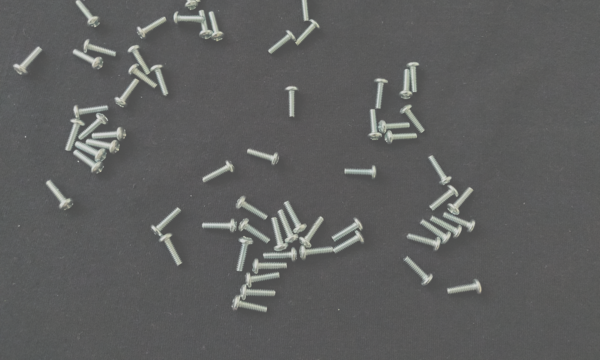shortscrew: (150, 207, 182, 238), (403, 256, 434, 287), (14, 47, 43, 78), (46, 181, 74, 212), (239, 219, 272, 245), (235, 196, 269, 221), (159, 234, 184, 268), (428, 155, 454, 187), (447, 187, 475, 216), (400, 105, 427, 135), (420, 219, 451, 245), (73, 151, 105, 176), (203, 160, 236, 184), (430, 216, 463, 240), (76, 0, 102, 30), (79, 113, 109, 139), (429, 185, 459, 211), (136, 16, 167, 41), (333, 217, 364, 242), (128, 64, 157, 90), (285, 201, 307, 235), (268, 30, 297, 55), (300, 217, 324, 247), (278, 210, 299, 244), (334, 231, 365, 254), (296, 19, 322, 46), (82, 40, 117, 60), (127, 45, 151, 74), (64, 120, 85, 153), (442, 213, 476, 233), (232, 296, 269, 314), (73, 50, 104, 71), (115, 80, 138, 108), (75, 142, 107, 162), (236, 237, 254, 272), (407, 234, 442, 252), (72, 105, 109, 122), (150, 64, 169, 97), (247, 148, 281, 166), (240, 285, 277, 301), (272, 218, 289, 252), (245, 273, 281, 289), (447, 280, 483, 296), (300, 244, 333, 261), (86, 140, 121, 156), (202, 220, 238, 235), (253, 260, 288, 275), (383, 130, 418, 145), (264, 248, 298, 263), (344, 166, 378, 181), (368, 109, 383, 143), (92, 127, 127, 141), (285, 85, 299, 117), (399, 69, 413, 101), (375, 79, 389, 110), (378, 121, 411, 134), (174, 12, 204, 26), (406, 62, 419, 94), (297, 0, 311, 23), (180, 0, 198, 13), (183, 0, 202, 3)
